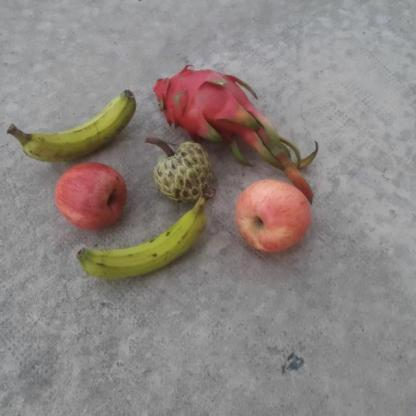annona: (150, 138, 217, 206)
apple: (234, 176, 317, 255), (54, 164, 126, 227)
banana: (73, 190, 214, 283), (8, 85, 139, 160)
pitaya: (152, 65, 254, 140)
